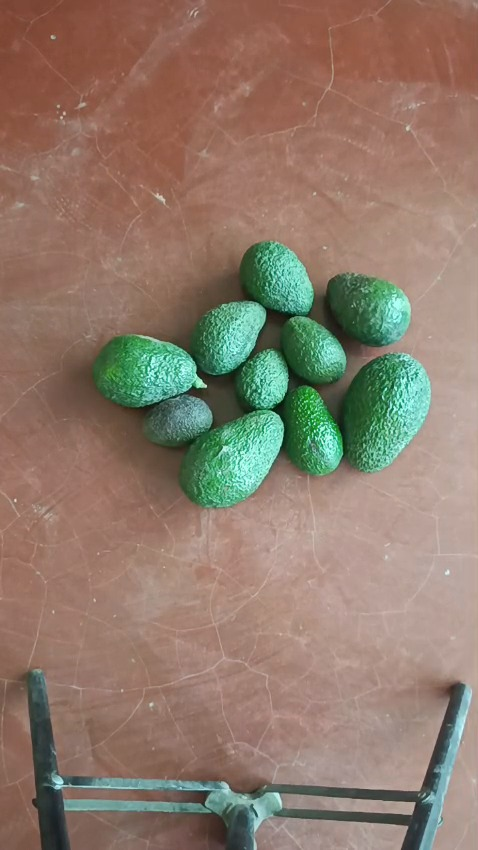Primera: (340, 353, 431, 471), (178, 410, 285, 506), (90, 333, 202, 407), (325, 271, 411, 345)
Segunda: (239, 241, 315, 317), (189, 301, 267, 375), (280, 384, 344, 474)
Tercera: (279, 316, 347, 385), (141, 395, 214, 448), (235, 347, 291, 411)
